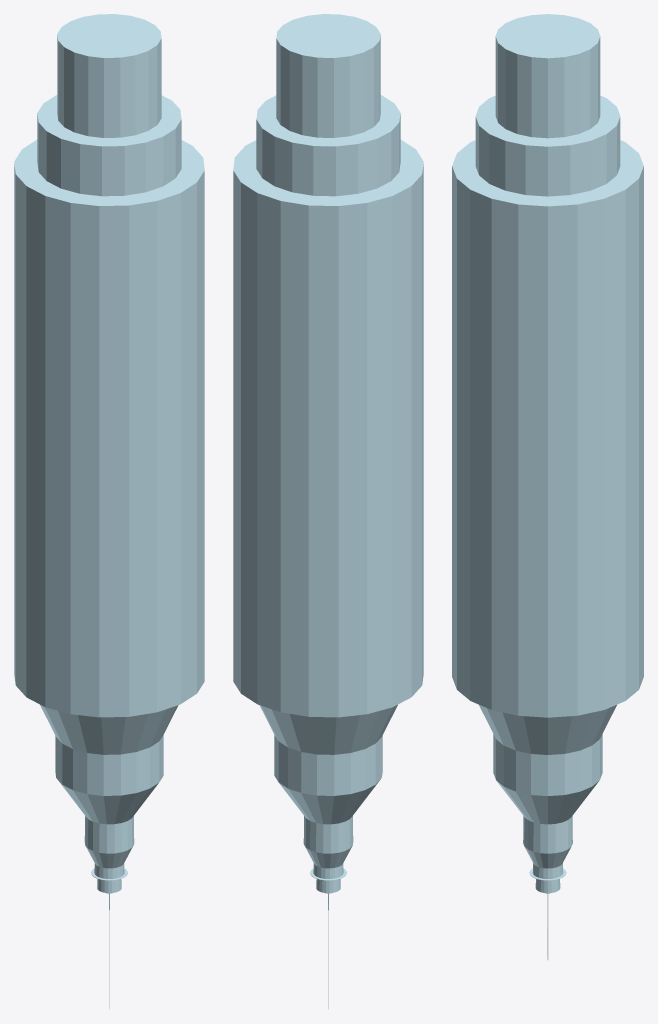
The model's file is Syringe_updated.fbx.
3 views of the same model, side by side, from view 1: azimuth 30°, elevation 25°; view 2: azimuth 150°, elevation 25°; view 3: azimuth 270°, elevation 25° (orthographic).
Parts seen in each view (by area): view 1: Syringe; view 2: Syringe; view 3: Syringe.
Boxes of the visible parts, x1,y1,x2,y2 form: Syringe: (14,14,204,1009); Syringe: (233,14,423,1009); Syringe: (452,14,643,960).
Size of the model in its own units: 5.81 by 32.57 by 5.81.
